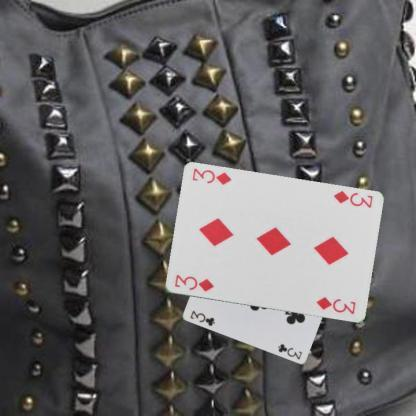3c: (188, 308, 216, 327)
3d: (330, 188, 374, 210), (172, 272, 216, 293)
